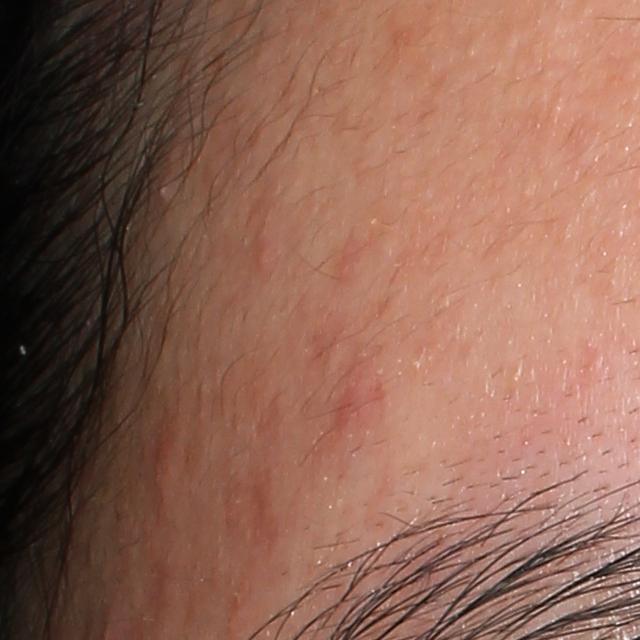papule: (328, 356, 384, 432), (150, 433, 179, 496)
